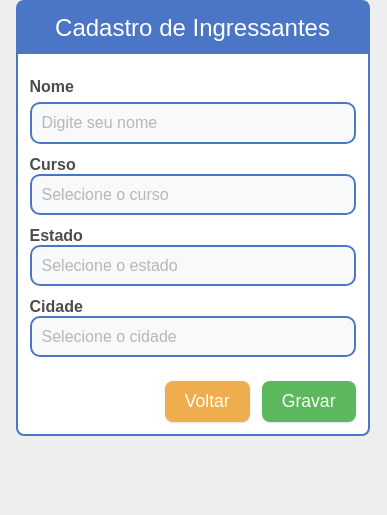
Test: Form de Cadastro de ingressantes › Validações do Campo Nome › Deve exibir erro de campo obrigatório quando estiver vazio
This screenshot has width=387, height=515.
What coordinates should you click on to do the following:
click the button "Gravar"
I would click on:
 (309, 402)
Its box is [262, 381, 356, 422].
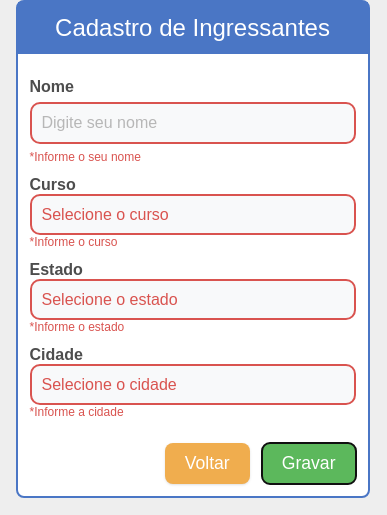
expect the text "*Informe o seu nome" is shown: met, box [30, 150, 141, 164]
